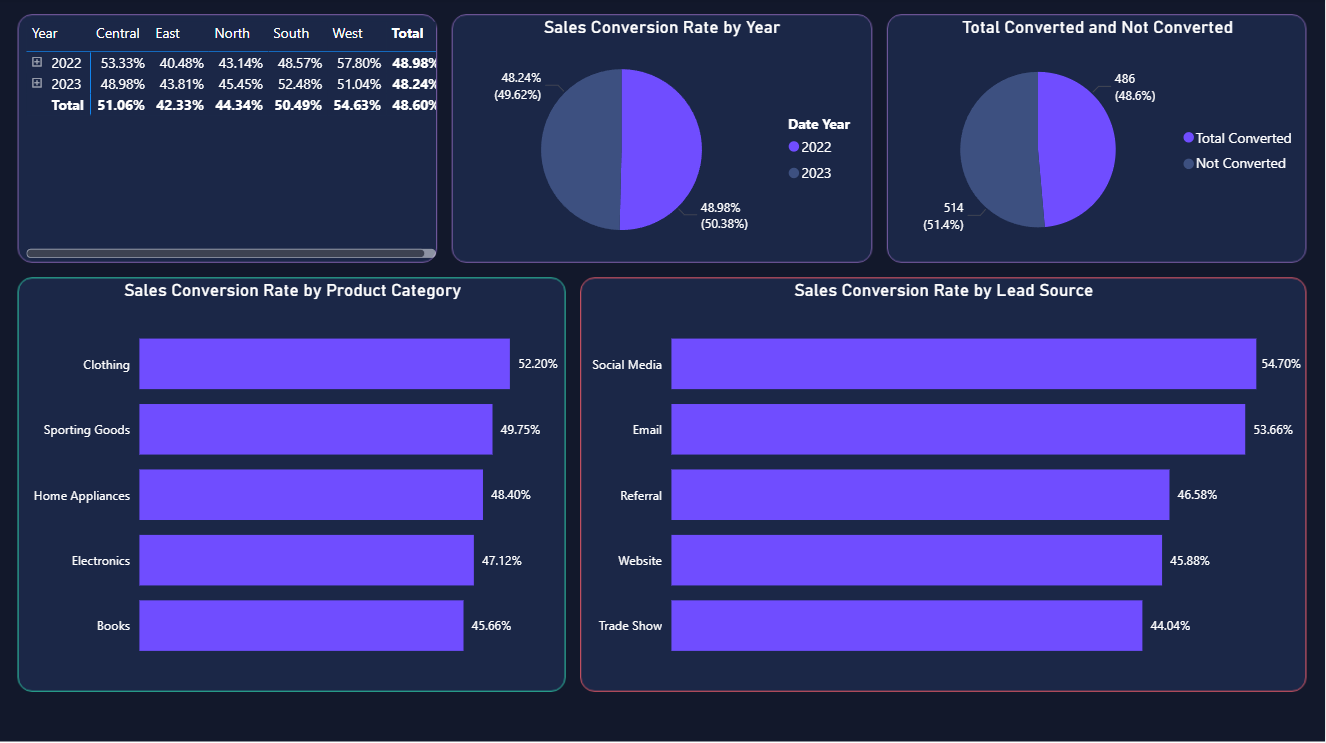

What the dashboard file says about the page in this screenshot:
{"tool":"powerbi","page":{"name":"Page 6","canvas":[1280,720],"ordinal":1},"visuals":[{"type":"pieChart","fields":{"Category":["Data.Date.Variation.Date Hierarchy.Year","Data.Date.Variation.Date Hierarchy.Quarter","Data.Date.Variation.Date Hierarchy.Month","Data.Date.Variation.Date Hierarchy.Day"],"Y":["messure.Sales Conversion Rate"]},"box":[435.5,18.1,409,237.7],"z":0},{"type":"pieChart","fields":{"Y":["messure.Total Converted","messure.Not Converted"]},"box":[859,18.1,403,237.7],"z":1000},{"type":"barChart","fields":{"Category":["Data.Lead Source"],"Y":["messure.Sales Conversion Rate"]},"box":[562.2,271.4,699.7,390.9],"z":2000},{"type":"barChart","fields":{"Category":["Data.Product Category"],"Y":["messure.Sales Conversion Rate"]},"box":[21.7,271.4,523.6,390.9],"z":3000},{"type":"pivotTable","fields":{"Rows":["Data.Date.Variation.Date Hierarchy.Year","Data.Date.Variation.Date Hierarchy.Quarter","Data.Date.Variation.Date Hierarchy.Month","Data.Date.Variation.Date Hierarchy.Day"],"Columns":["Data.Region"],"Values":["messure.Sales Conversion Rate"]},"box":[21.7,18.1,405.4,237.7],"z":4001}]}

Visuals, with their boxes in screenshot pixels (x1, y1, x2, y2), scaled from the page's 1280x720 canvas onto the 1326x743 screenshot:
pieChart - Data.Date.Variation.Date Hierarchy.Year x Data.Date.Variation.Date Hierarchy.Quarter: bbox=(451, 19, 875, 264)
pieChart - messure.Total Converted x messure.Not Converted: bbox=(890, 19, 1307, 264)
barChart - Data.Lead Source x messure.Sales Conversion Rate: bbox=(582, 280, 1307, 683)
barChart - Data.Product Category x messure.Sales Conversion Rate: bbox=(22, 280, 565, 683)
pivotTable - Data.Date.Variation.Date Hierarchy.Year x Data.Date.Variation.Date Hierarchy.Quarter: bbox=(22, 19, 442, 264)
